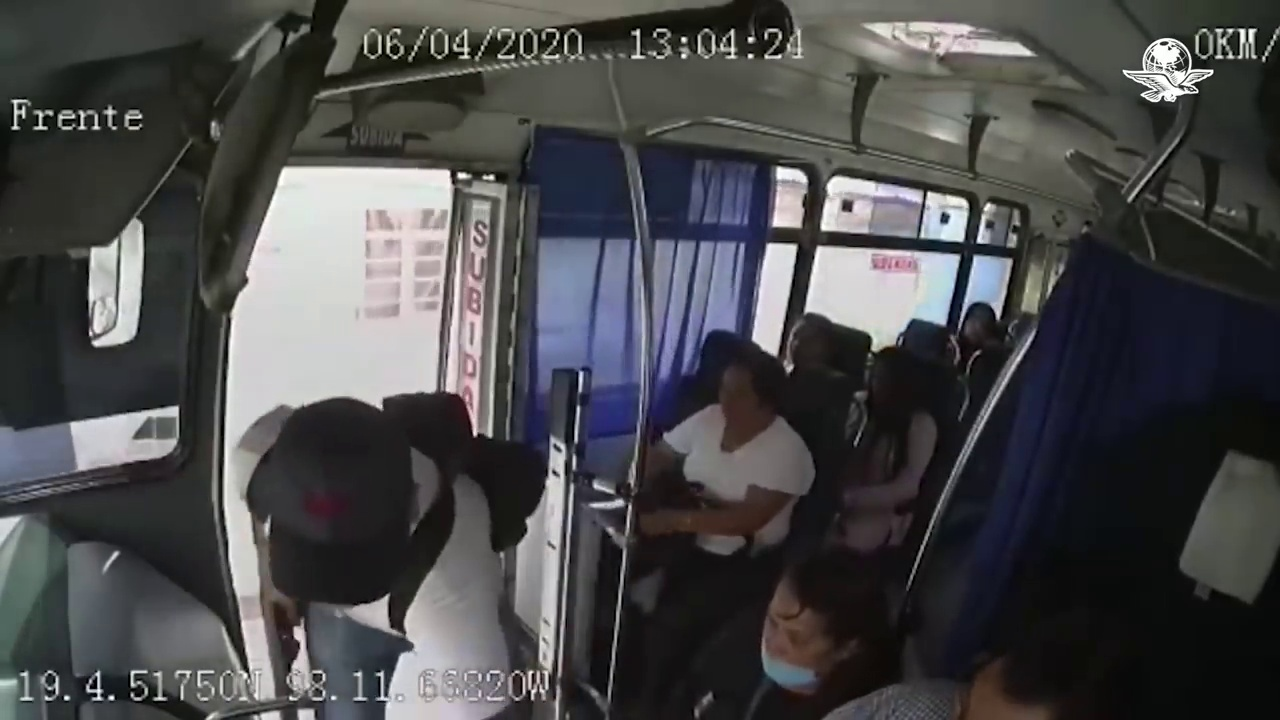pistol: (268, 597, 302, 693)
